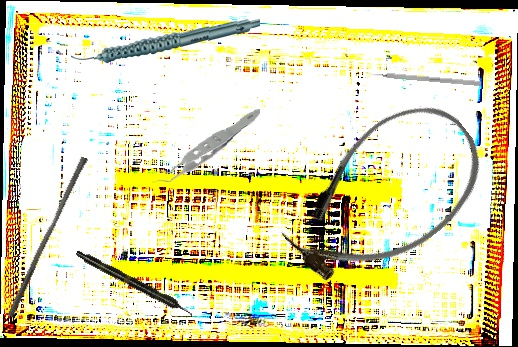Cannula: (264, 82, 505, 309)
Handpiece: (71, 11, 260, 70), (74, 247, 195, 320)
Hook Surgical: (365, 70, 481, 87)
Pusher: (6, 153, 89, 321)
Tissue Forceps: (146, 109, 265, 183)
